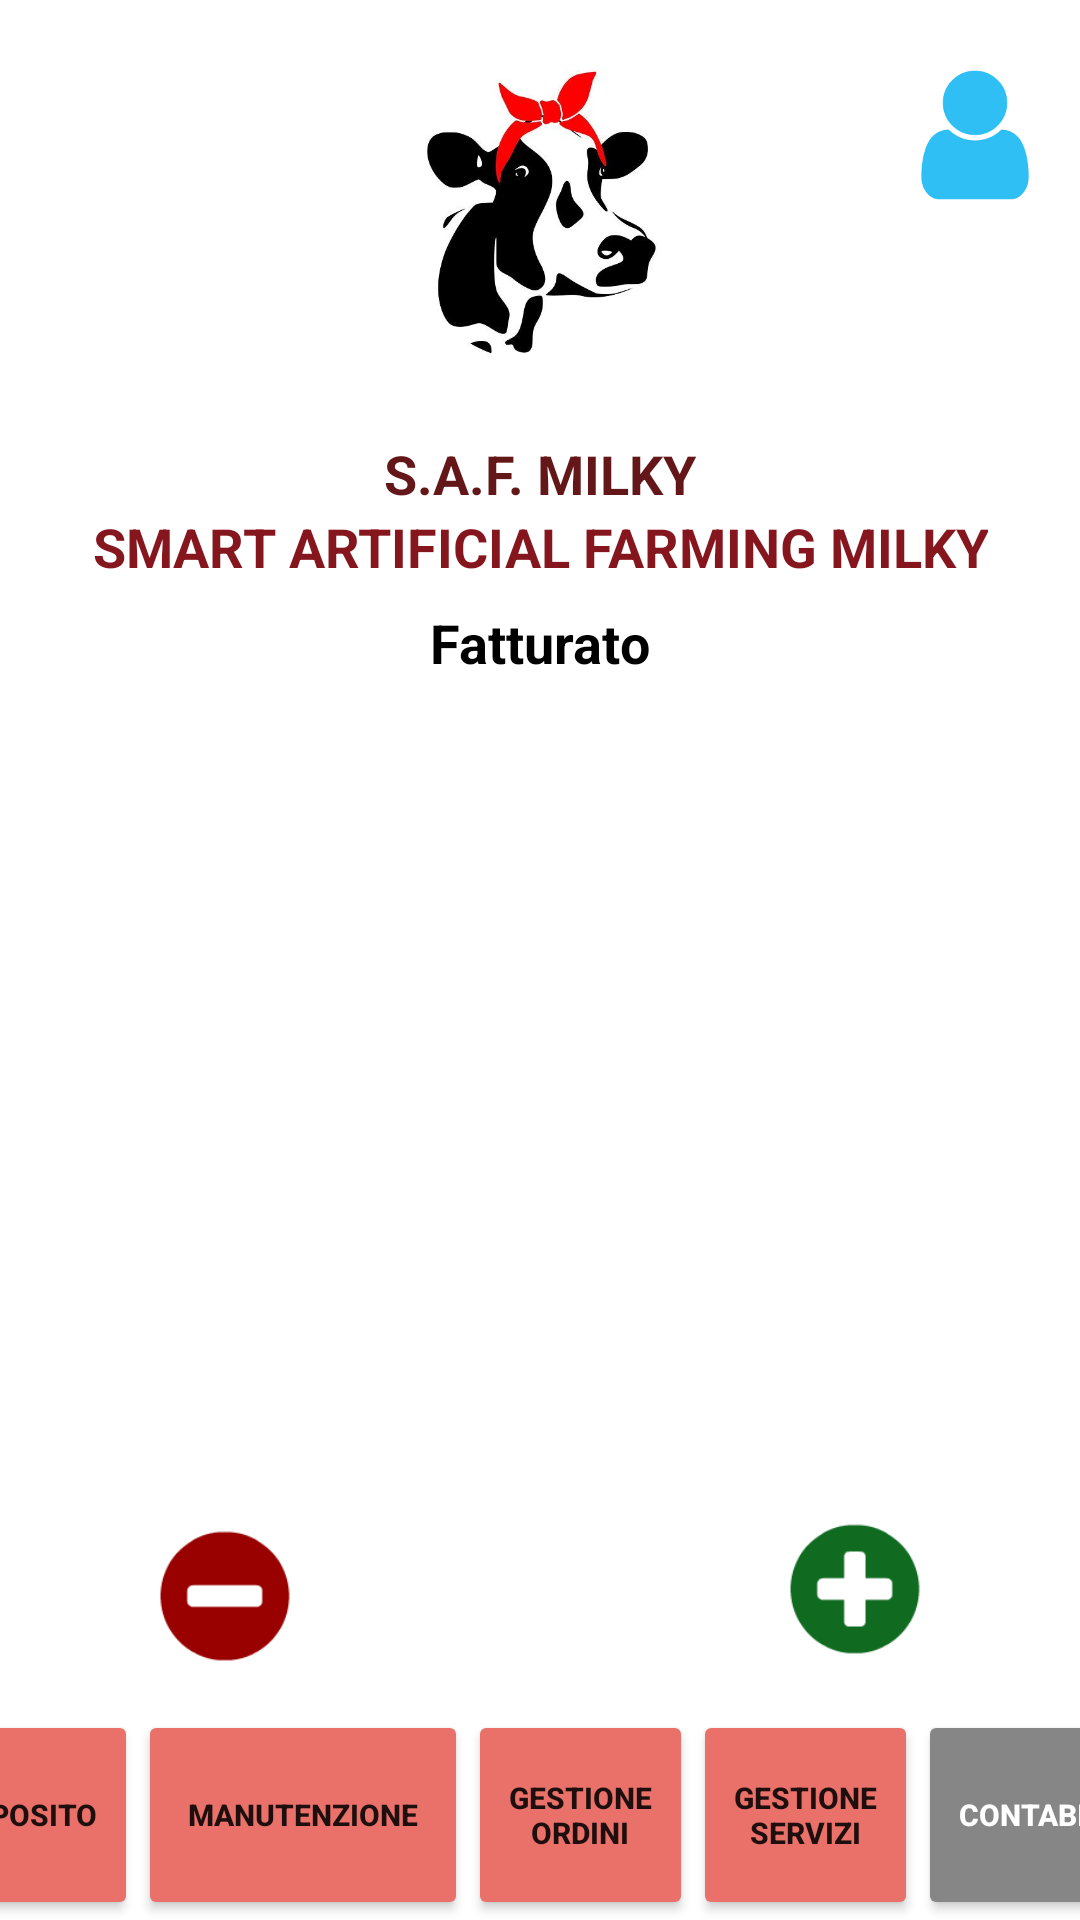

Icons on this 1080×1920 Android screen, each with its box as (x1, y1, x2, y2):
cont aggiungi: (790, 1524, 920, 1654)
ordini rimuovi: (160, 1531, 290, 1661)
user: (921, 70, 1029, 200)
